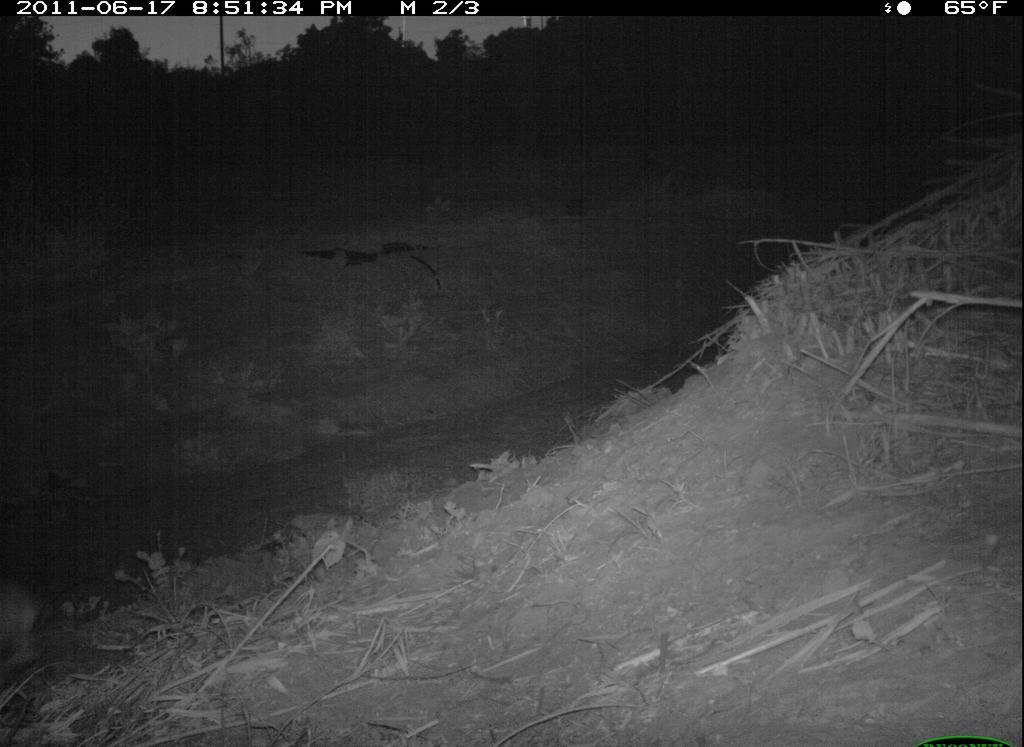rabbit: (1, 578, 61, 689)
